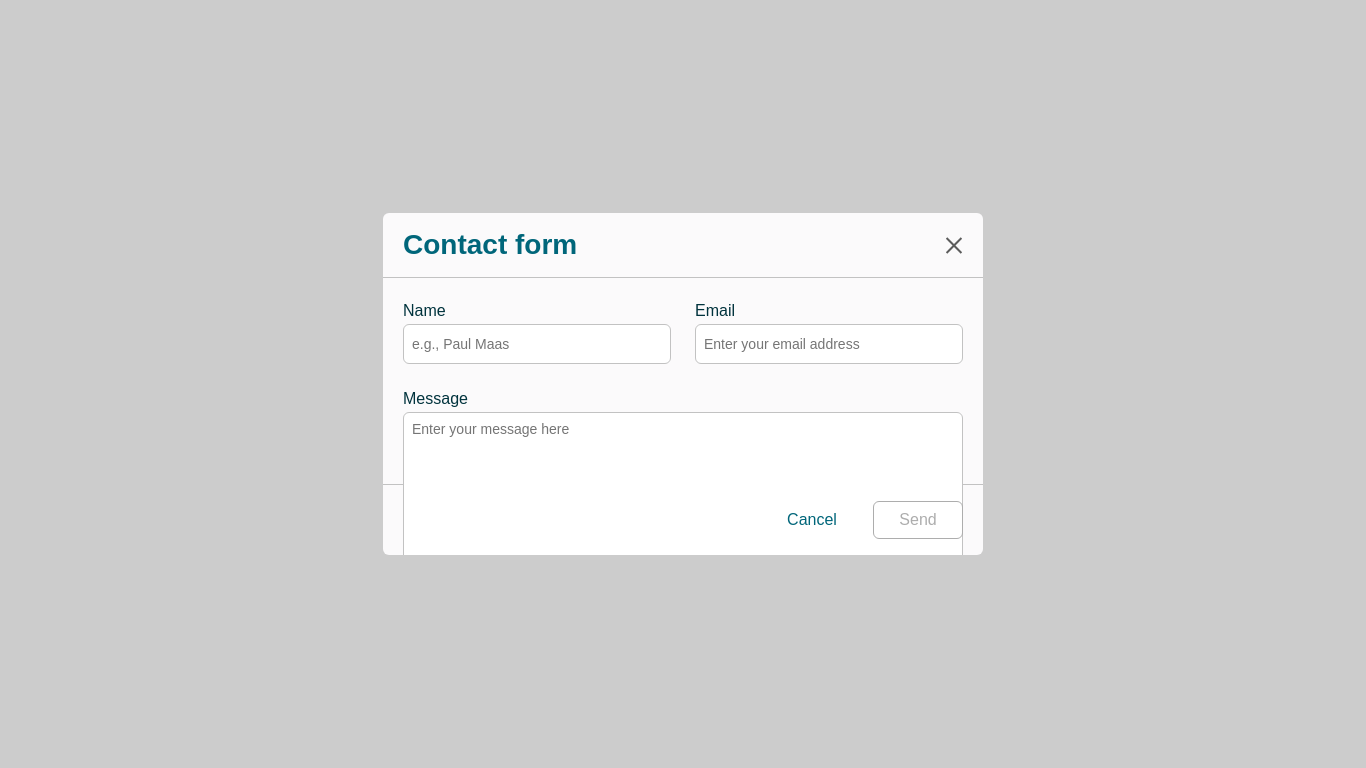
ContactModal › form reset › should reset form when cancel is clicked
The image size is (1366, 768).
Type "John Doe" into the field with placeholder "e.g., Paul Maas" at (537, 344), box [403,324,671,364]
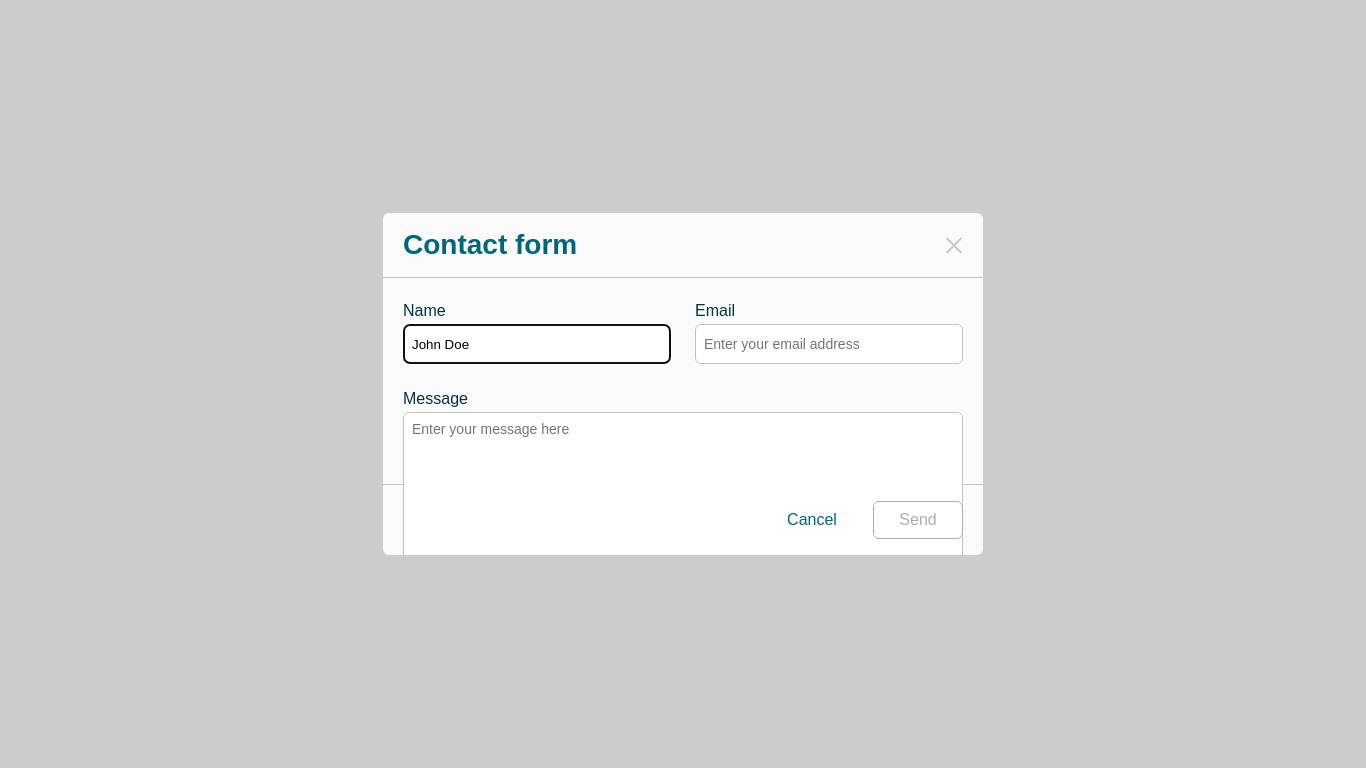
Click the button "Cancel" at (812, 520), box [767,501,857,539]
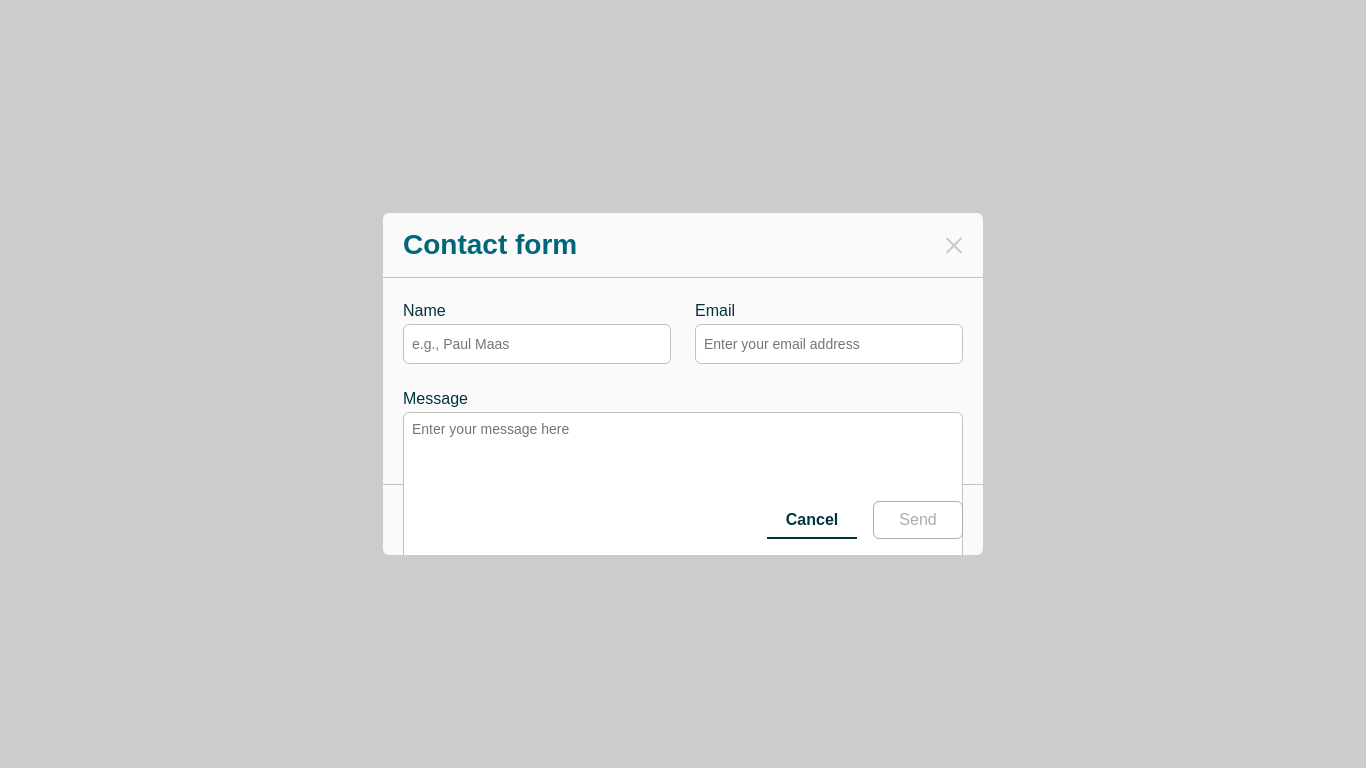
Check: the field with placeholder "e.g., Paul Maas" is empty, box [403,324,671,364]
